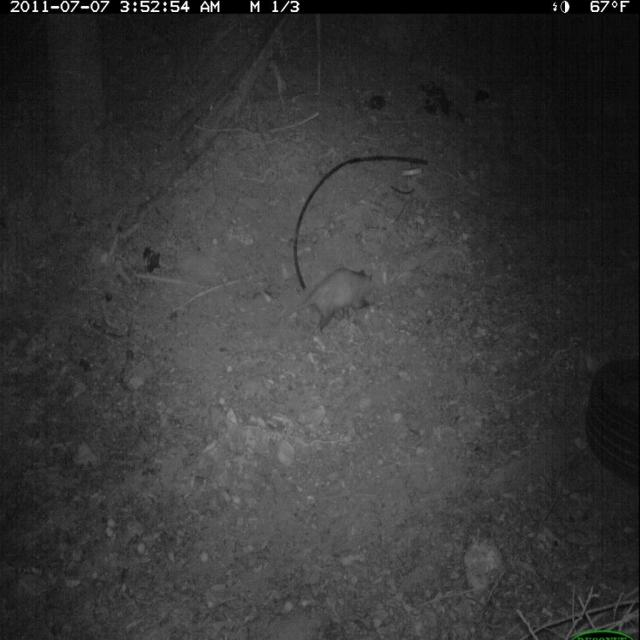opossum: (276, 260, 377, 344)
